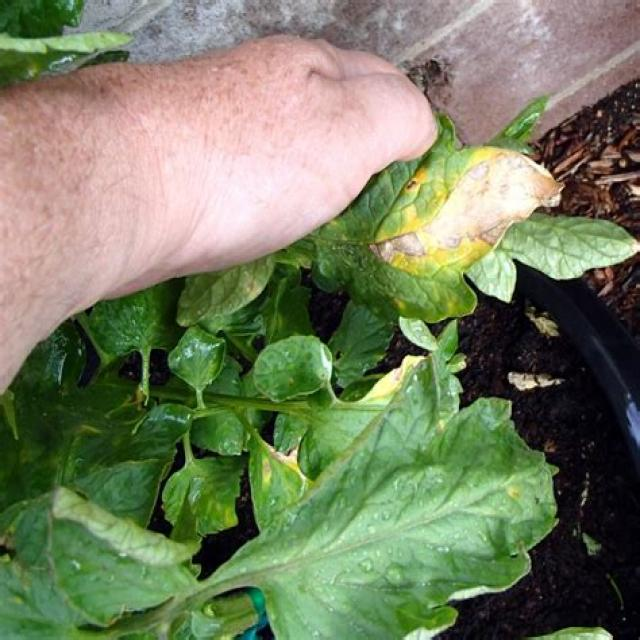blight: (366, 185, 558, 275)
